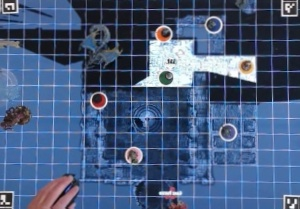blue: (204, 13, 225, 34)
green: (159, 70, 177, 88)
orange: (153, 25, 174, 43)
pink: (123, 144, 143, 165)
red: (89, 89, 111, 109)
violet: (216, 119, 238, 141)
yellow: (238, 56, 253, 72)
